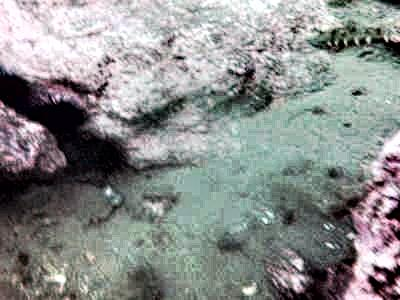urchin: (34, 93, 85, 133), (0, 74, 38, 116)
